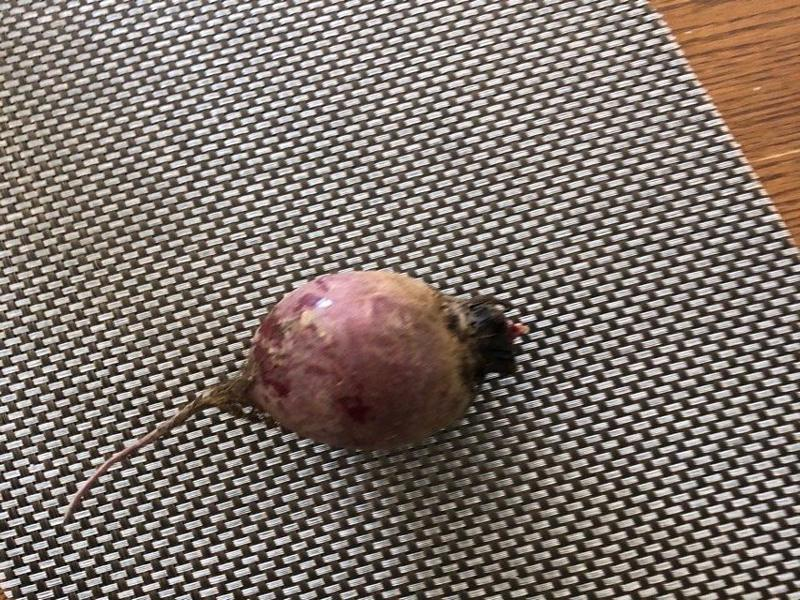Beet: (60, 272, 529, 523)
